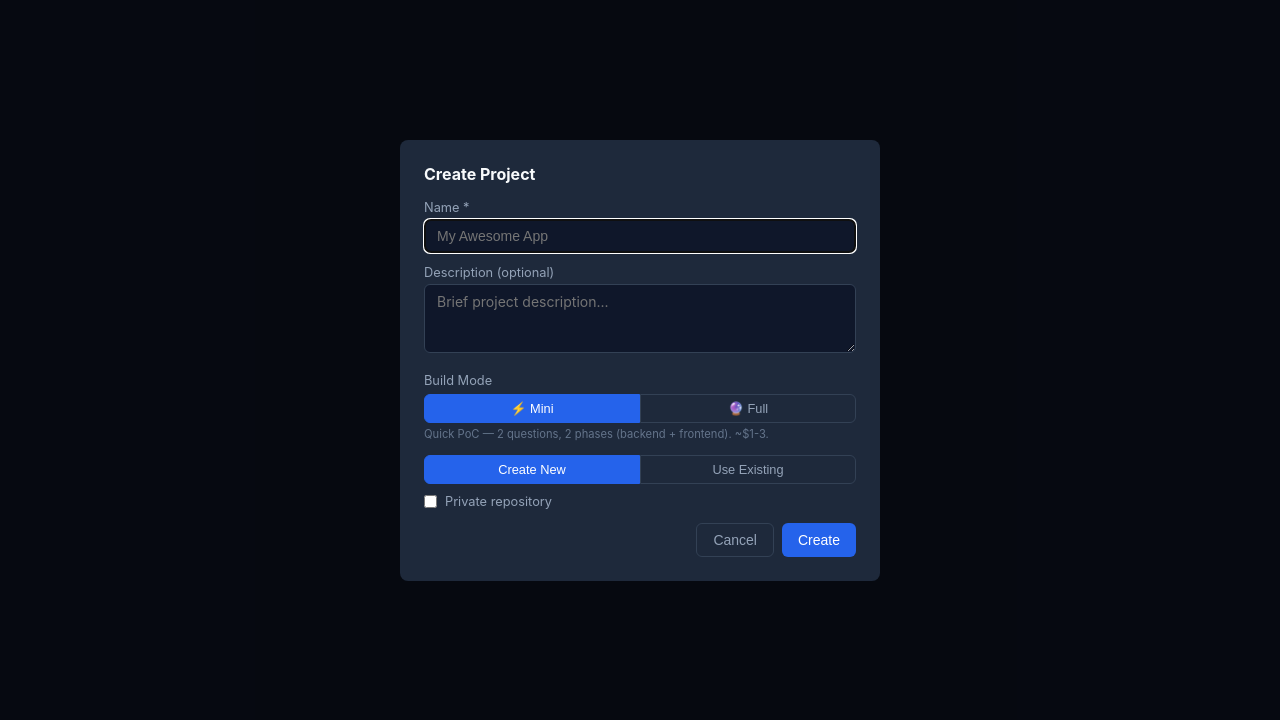
CreateProjectModal › shows error when no repo selected in select mode
Type "Test" into the field with test id "project-name-input" at [640, 236], box [424,218,856,252]
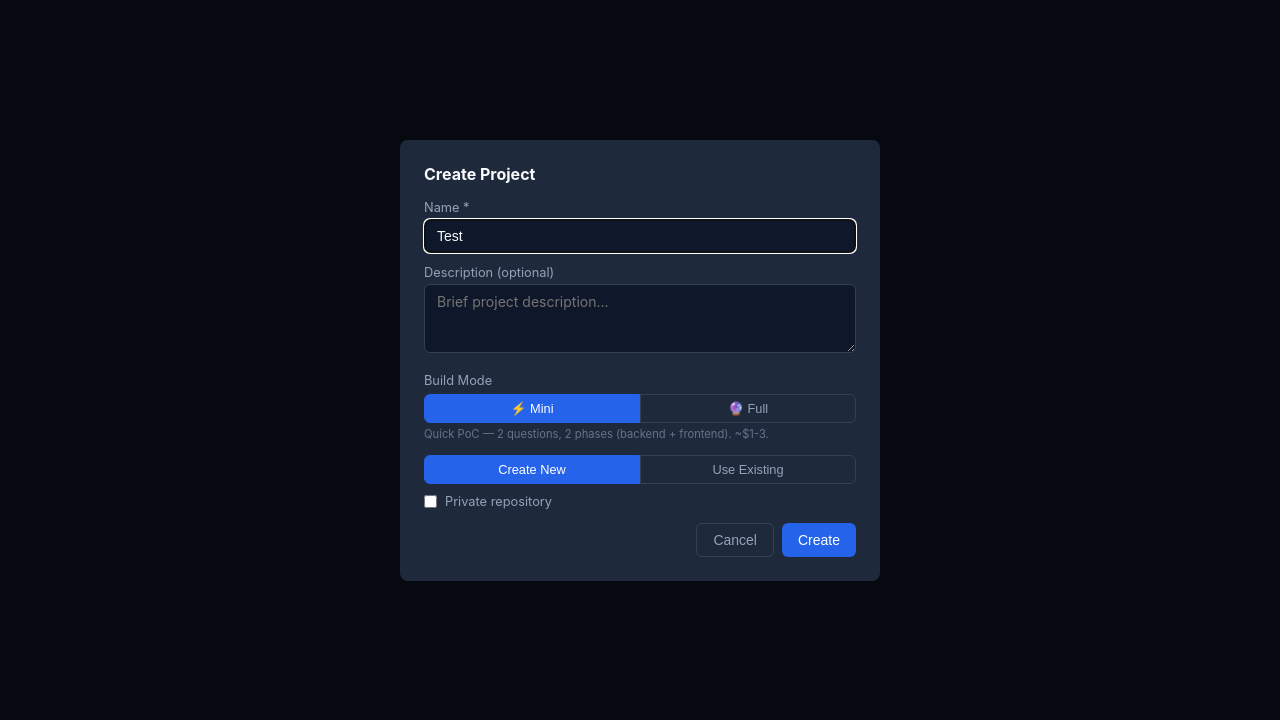
Click the button with test id "gh-select" at [748, 469], box [640,454,856,484]
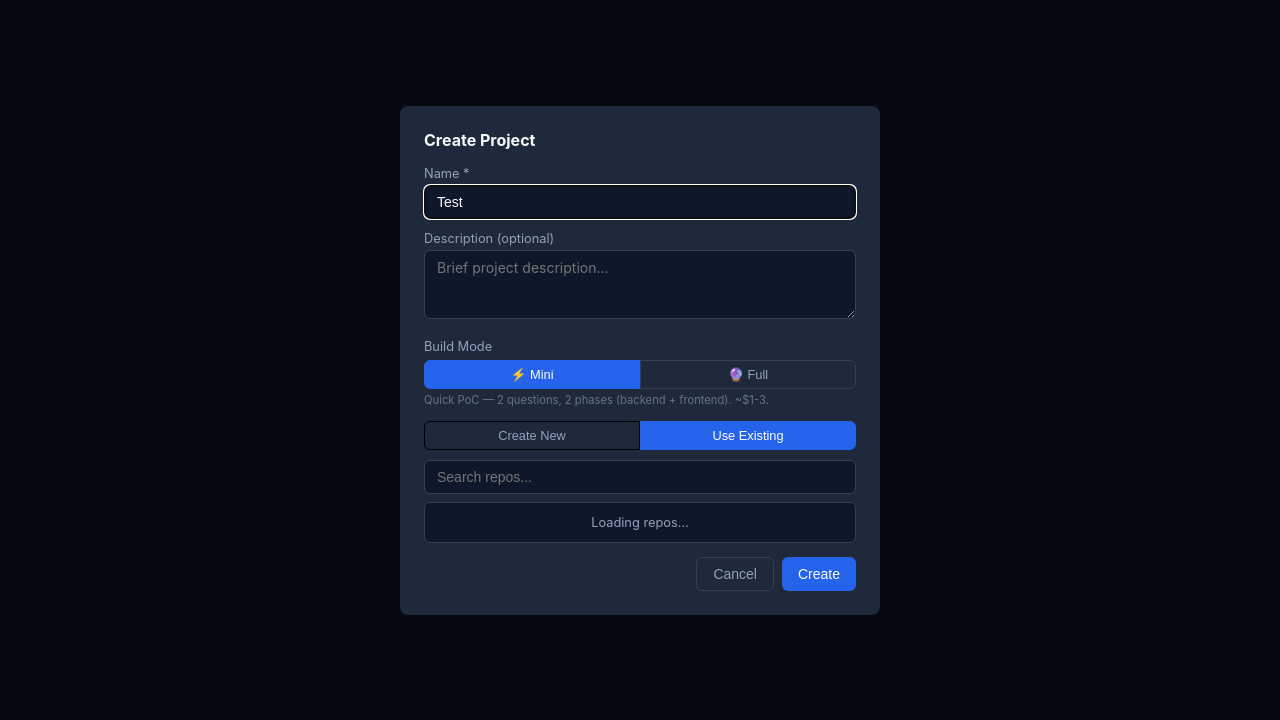
Click the button with test id "create-project-submit" at [819, 574], box [782,556,856,590]
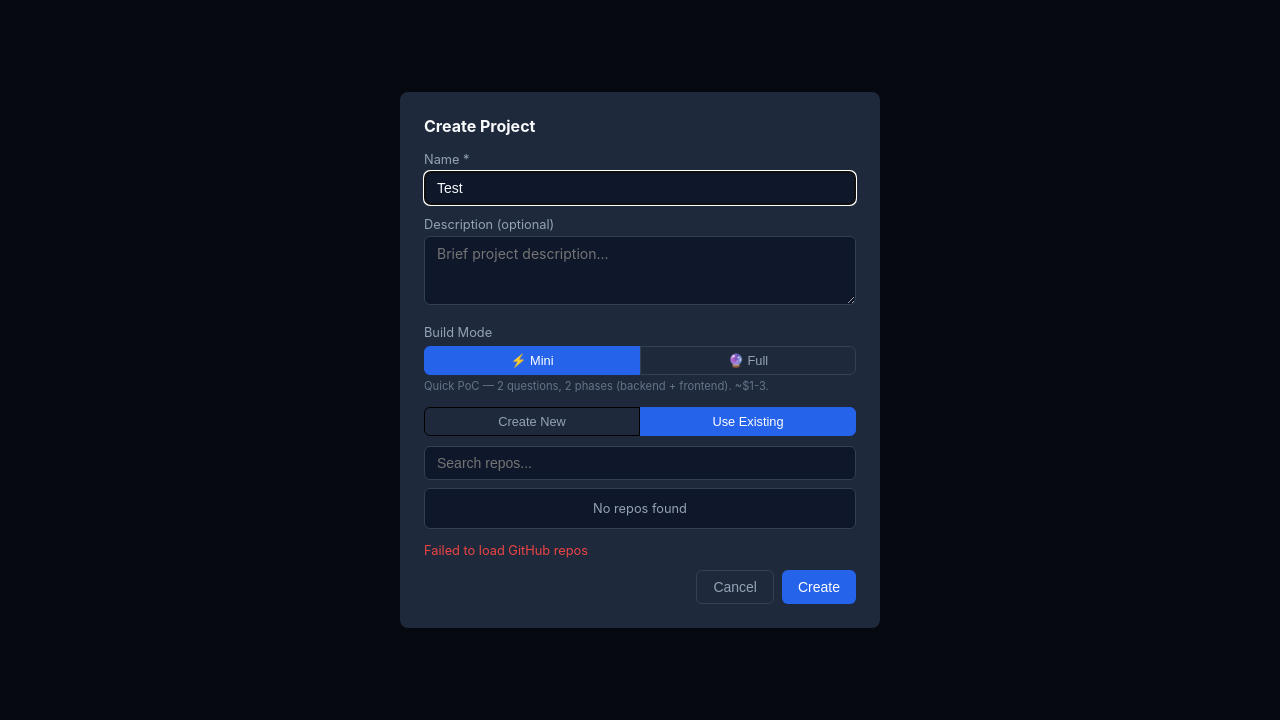
Expected: the text "Select a repository" is shown, [424,543,588,558]
